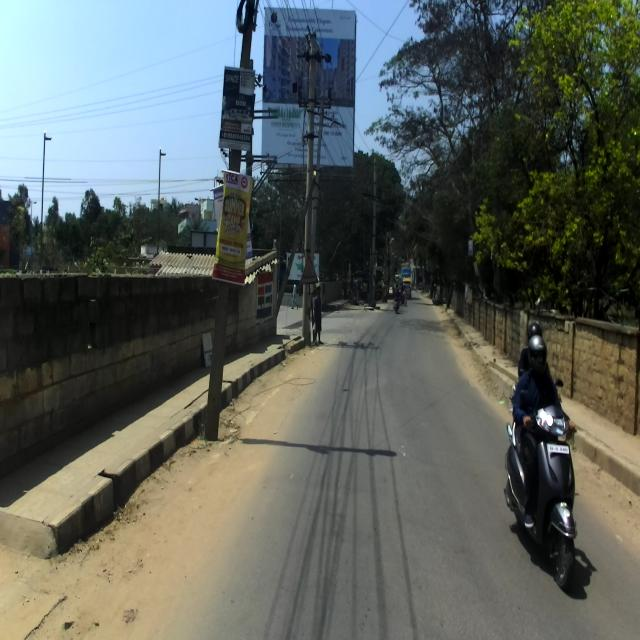electric pole ahead at: (207, 0, 262, 462), (289, 18, 329, 350)
motorcycle ahead at: (506, 397, 585, 590)
